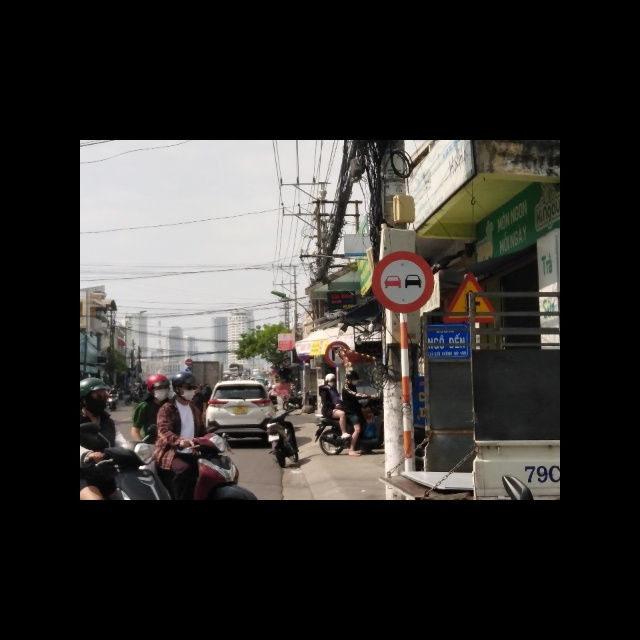Cấm vượt: (374, 250, 436, 314)
Giao nhau với đường không ưu tiên: (442, 268, 500, 321)
